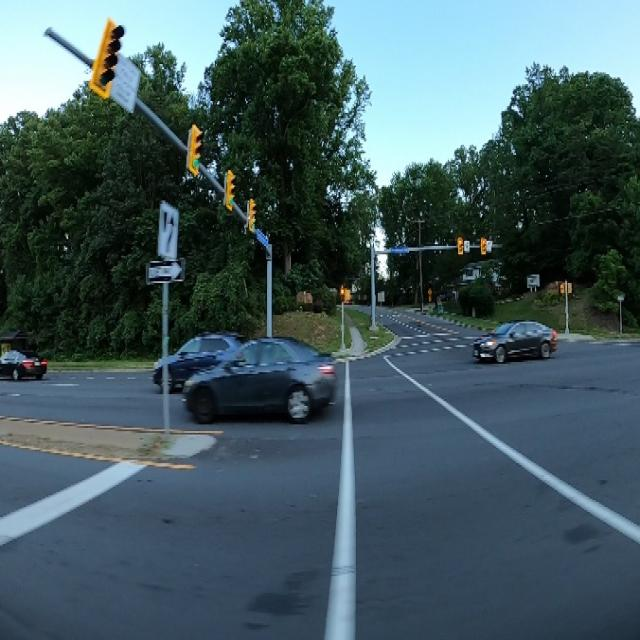car: (185, 340, 341, 430), (152, 329, 266, 399), (465, 310, 565, 374), (0, 330, 60, 382)
